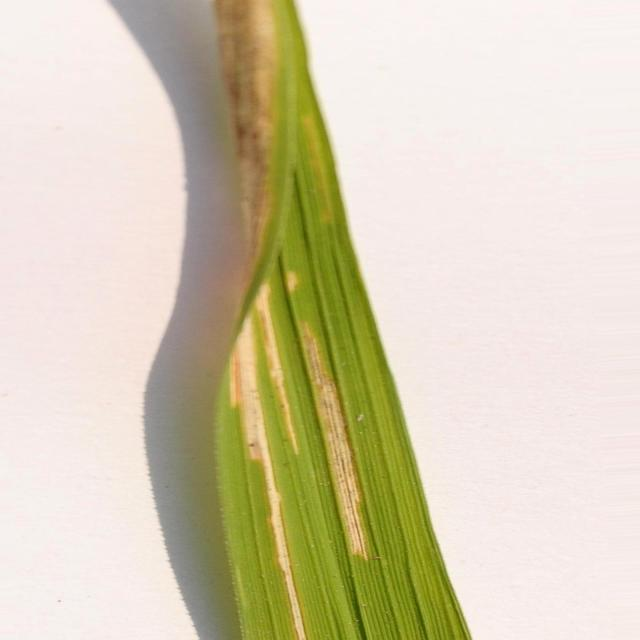Bacterial_Leaf_Blight: (230, 316, 306, 640), (215, 0, 278, 256), (300, 322, 368, 559), (256, 284, 299, 454), (285, 271, 299, 292)
